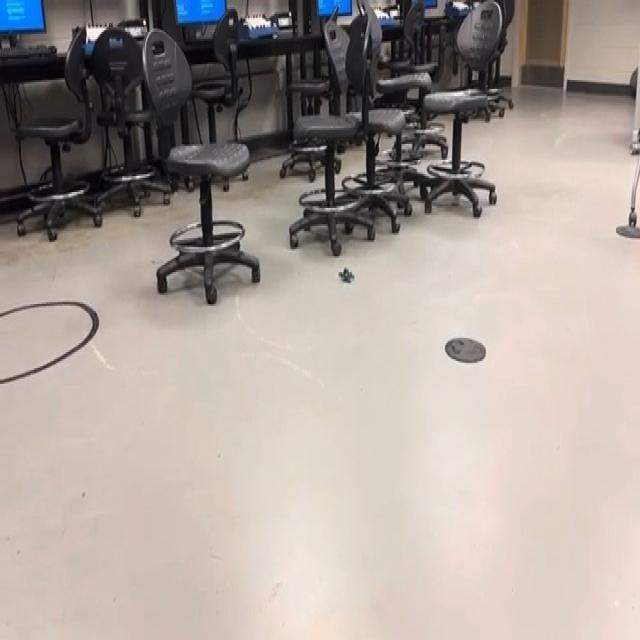drone: (334, 254, 360, 294)
